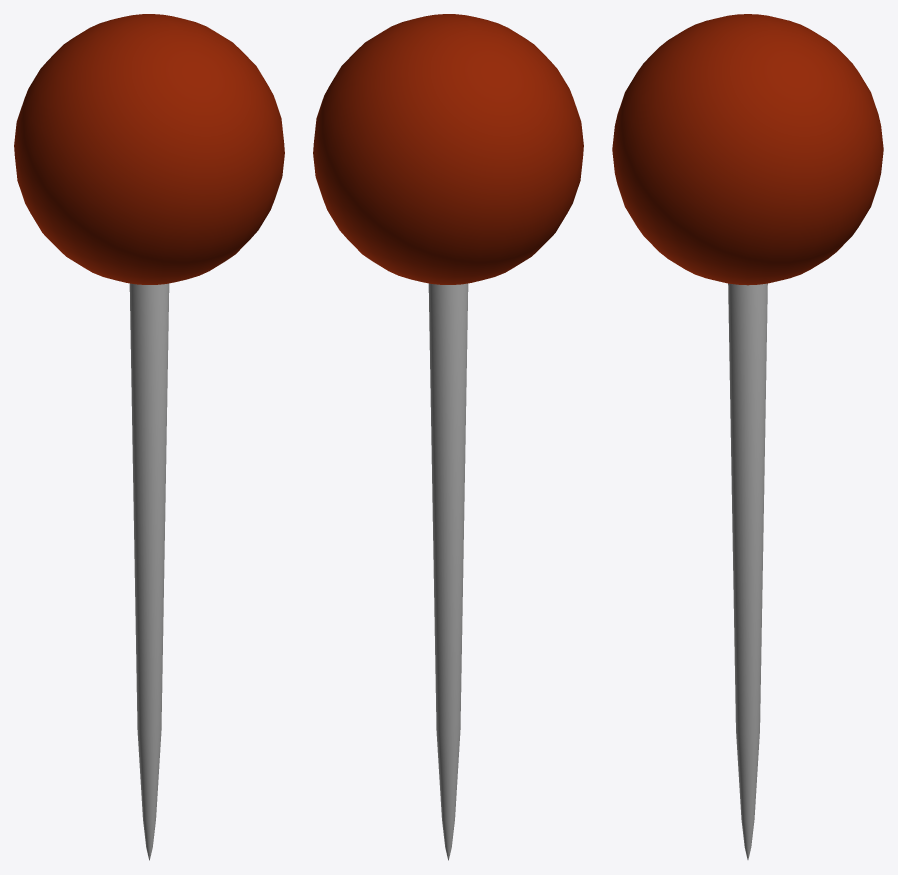
The model's file is cosadehapticoslol.fbx.
The picture shows the model from 3 angles, left to right: view 1: azimuth 30°, elevation 25°; view 2: azimuth 150°, elevation 25°; view 3: azimuth 270°, elevation 25°; orthographic projection.
Visible parts, largest first — view 1: Sphere, Cylinder; view 2: Sphere, Cylinder; view 3: Sphere, Cylinder.
Part boxes in pixels (left/top/right/bottom): Sphere: left=14, top=14, right=284, bottom=284; Cylinder: left=129, top=283, right=169, bottom=860; Sphere: left=313, top=14, right=583, bottom=284; Cylinder: left=428, top=283, right=468, bottom=860; Sphere: left=612, top=14, right=883, bottom=285; Cylinder: left=728, top=283, right=767, bottom=859.
Bounding box in the file's own units: 76.92 × 261 × 76.92.
